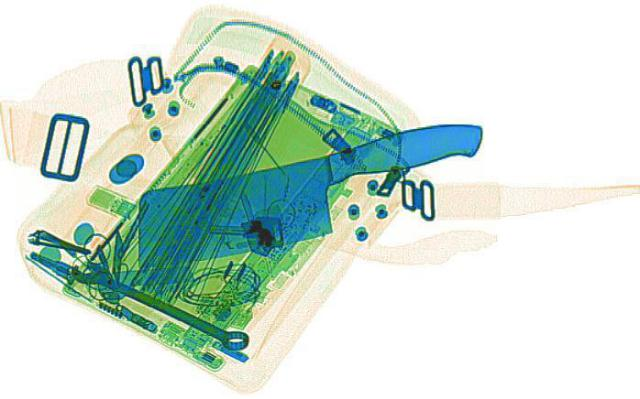Knife: (104, 114, 522, 269)
Wrench: (61, 256, 259, 352)
